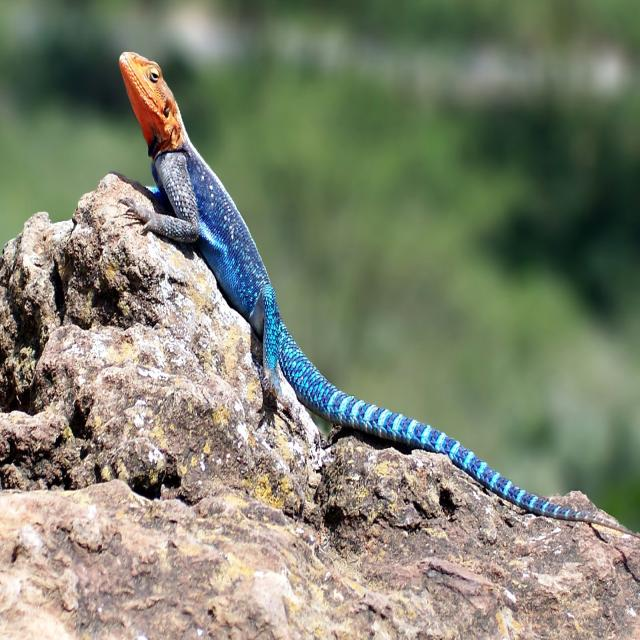lizard: (121, 53, 590, 519)
